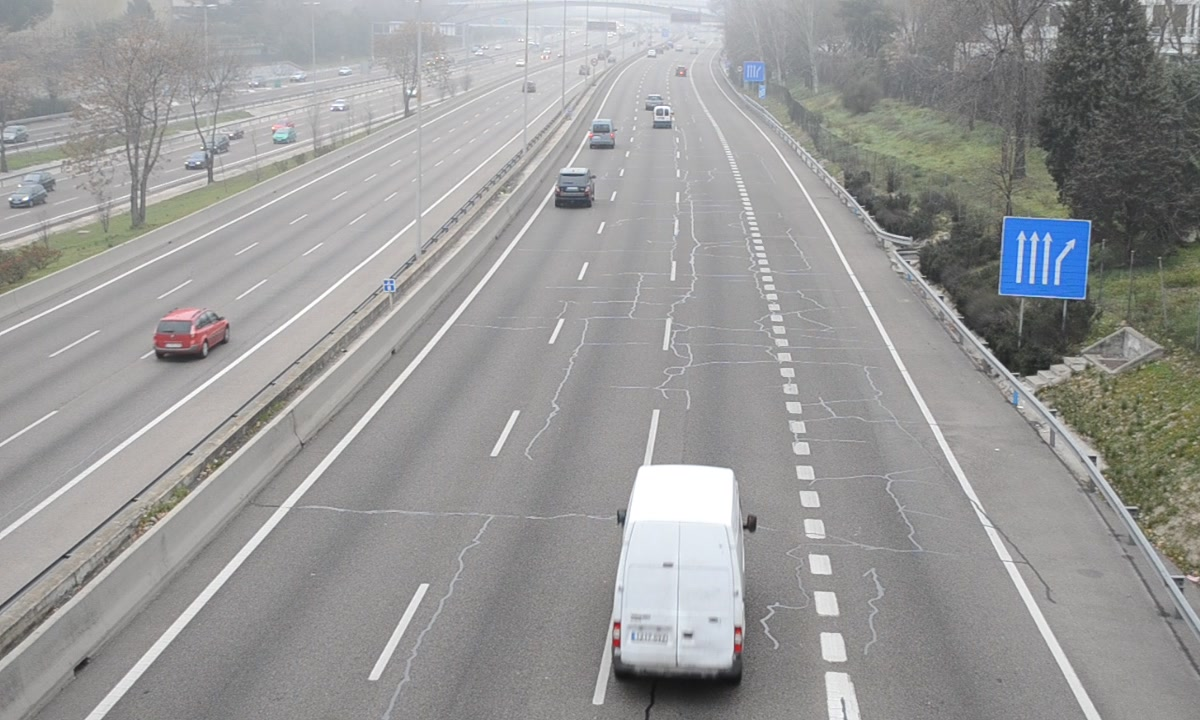car: (554, 168, 595, 208)
van: (611, 465, 745, 684), (588, 118, 615, 149)
